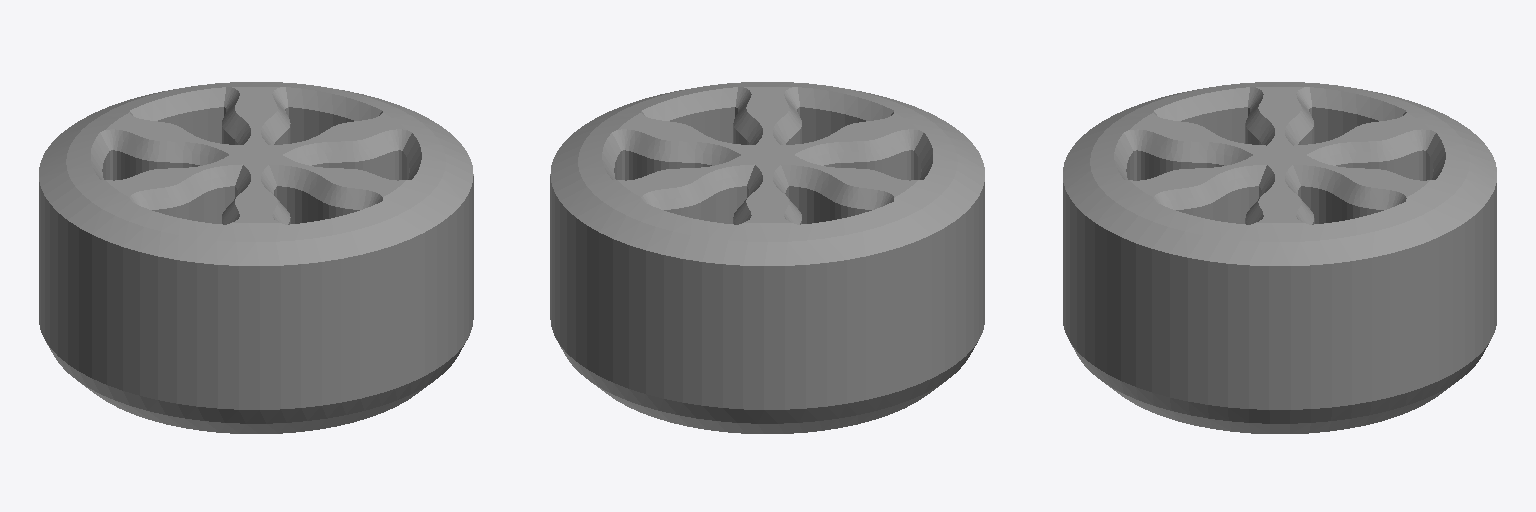
The model's file is WheelRotationLeftRight.obj.
3 renders of one model, left to right at view 1: azimuth 30°, elevation 25°; view 2: azimuth 150°, elevation 25°; view 3: azimuth 270°, elevation 25°, orthographic.
Visible parts, largest first — view 1: WheelRotationLeftRight; view 2: WheelRotationLeftRight; view 3: WheelRotationLeftRight.
Boxes of the visible parts, x1,y1,x2,y2 form: WheelRotationLeftRight: [39, 82, 473, 433]; WheelRotationLeftRight: [550, 82, 984, 433]; WheelRotationLeftRight: [1063, 82, 1496, 433].
Bounding box in the file's own units: 0.0507 × 0.026 × 0.0507.